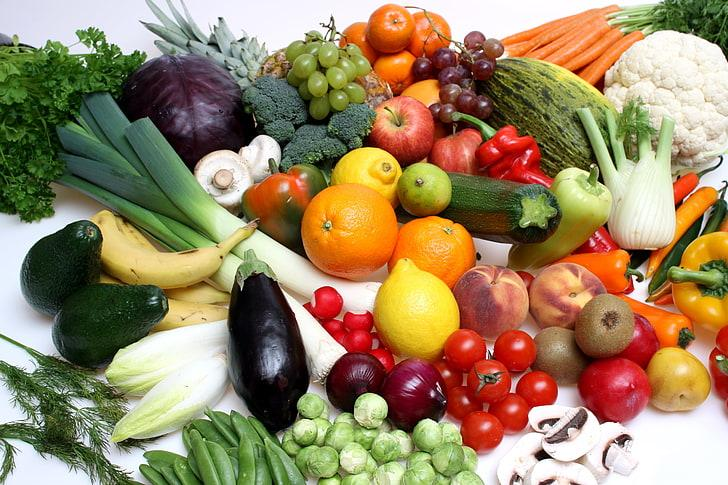apple: (381, 92, 452, 164)
brocolli: (242, 82, 371, 168)
carrot: (473, 0, 661, 70)
cauliflower: (616, 32, 726, 159)
grapes: (275, 34, 375, 102)
orange: (308, 190, 399, 271)
tomato: (433, 334, 577, 446)
